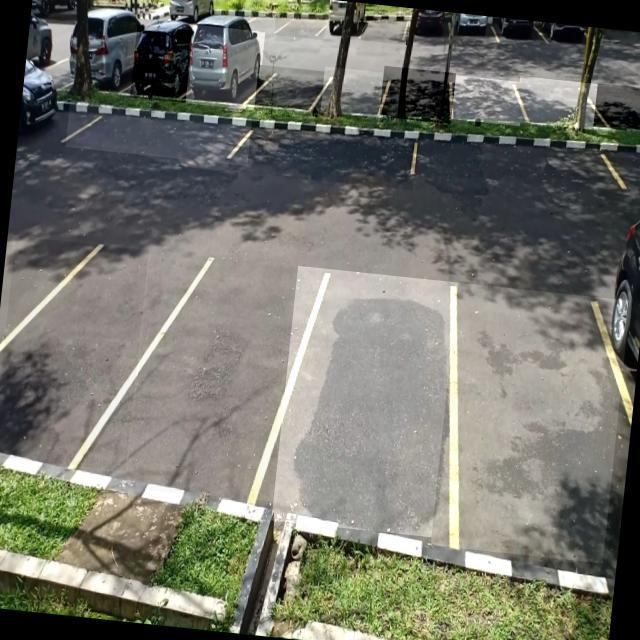empty: (430, 282, 630, 563), (270, 266, 466, 538), (126, 247, 294, 503), (0, 235, 148, 470), (408, 124, 620, 204), (228, 121, 417, 190), (65, 100, 252, 166), (378, 65, 456, 124), (515, 76, 599, 130), (446, 74, 524, 126), (254, 64, 328, 117), (320, 66, 390, 119), (593, 82, 640, 133), (361, 3, 411, 45), (274, 1, 327, 40)
occupied: (184, 24, 265, 110), (130, 24, 193, 102)
